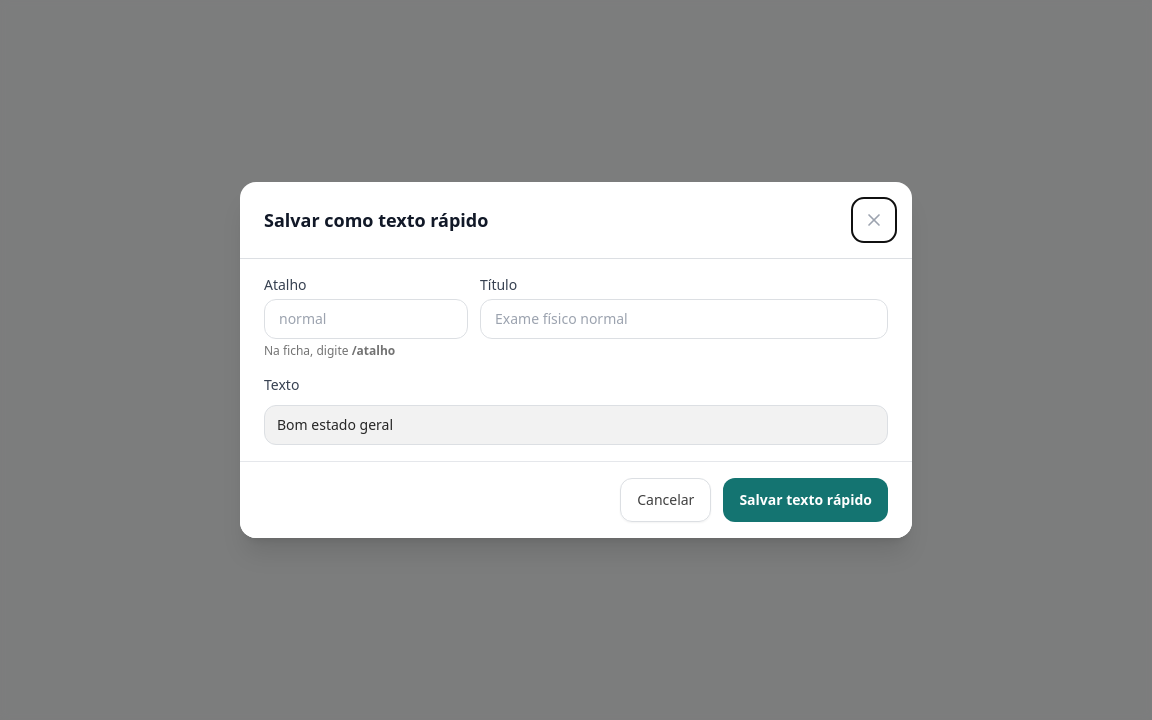
SalvarTextoRapidoModal › salva o trecho com o atalho normalizado e fecha
Expected: the text "Bom estado geral" is shown, x1=277 y1=415 x2=393 y2=434
Type "/Exame Normal" into the field labelled "Atalho" at {"x": 366, "y": 319}, box x1=264 y1=299 x2=468 y2=339
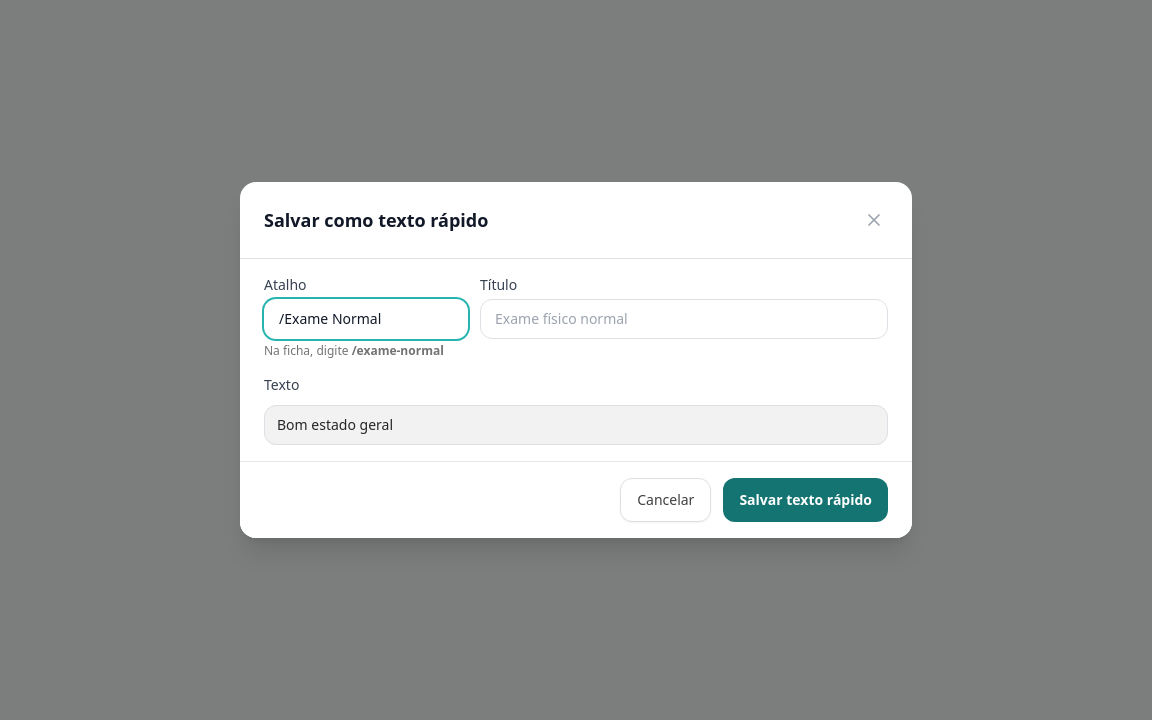
Now the text "/exame-normal" is shown, box x1=352 y1=342 x2=444 y2=359
Type "Exame normal" into the field labelled "Título" at {"x": 684, "y": 319}, box x1=480 y1=299 x2=888 y2=339
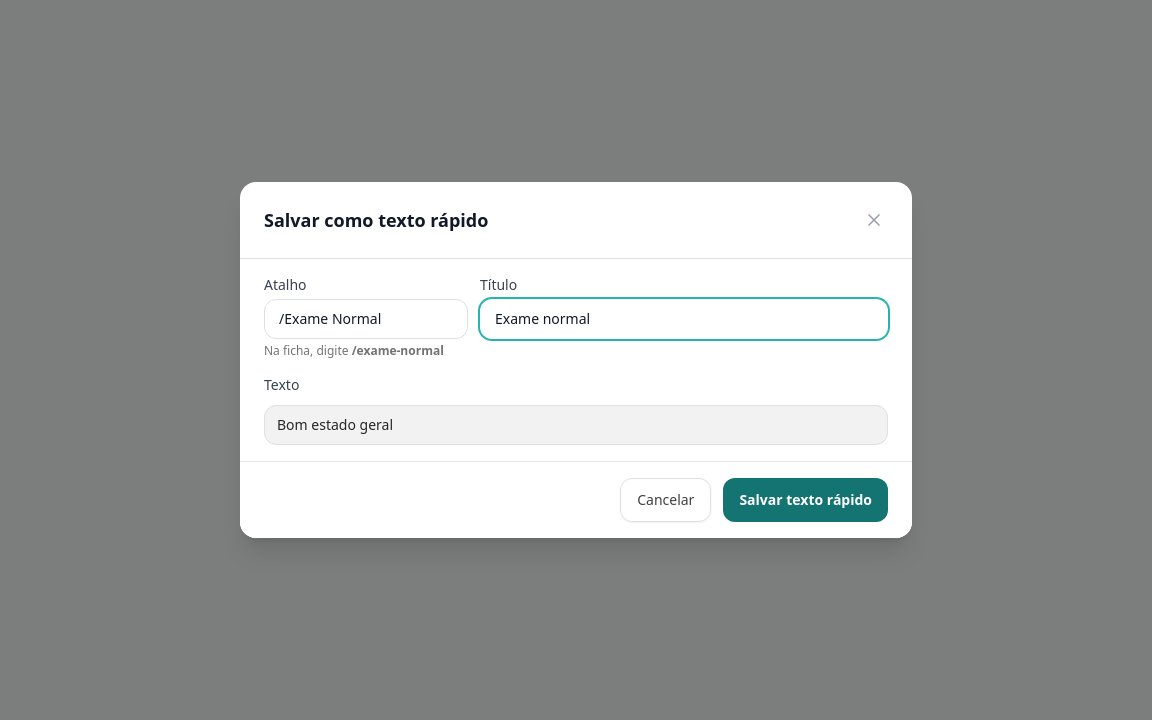
Click the button "Salvar texto rápido" at {"x": 806, "y": 500}, box x1=723 y1=478 x2=888 y2=522
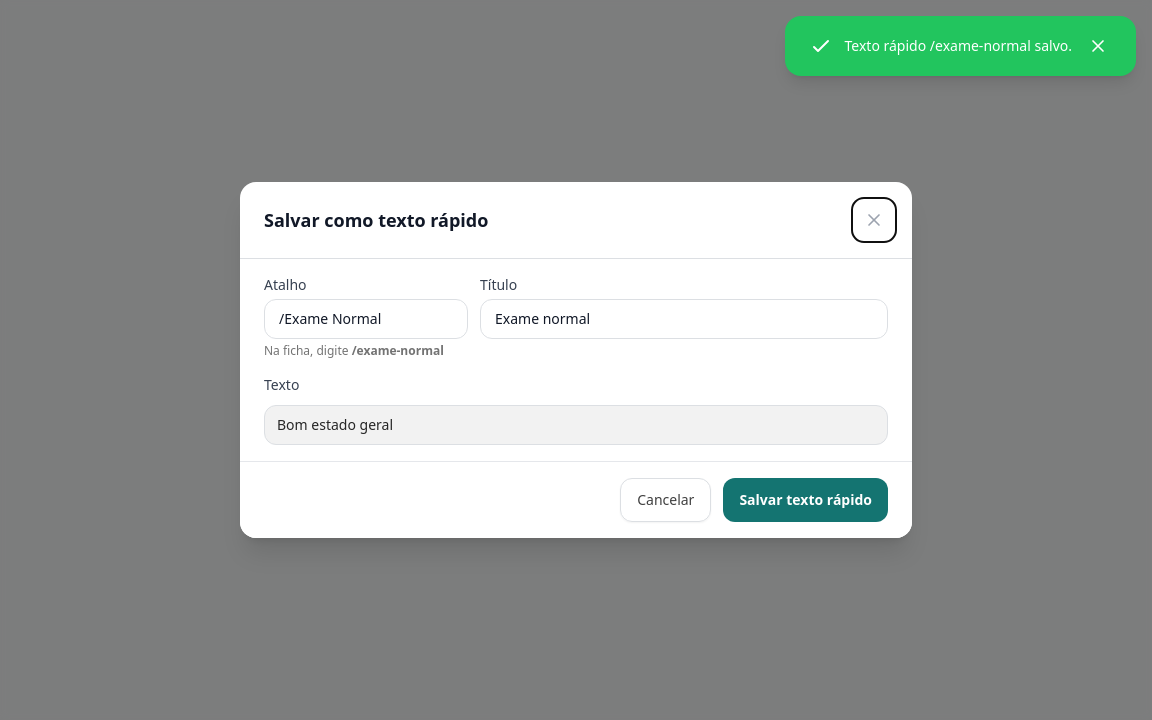
Now the text "Texto rápido /exame-normal salvo." is shown, box x1=844 y1=36 x2=1072 y2=56
